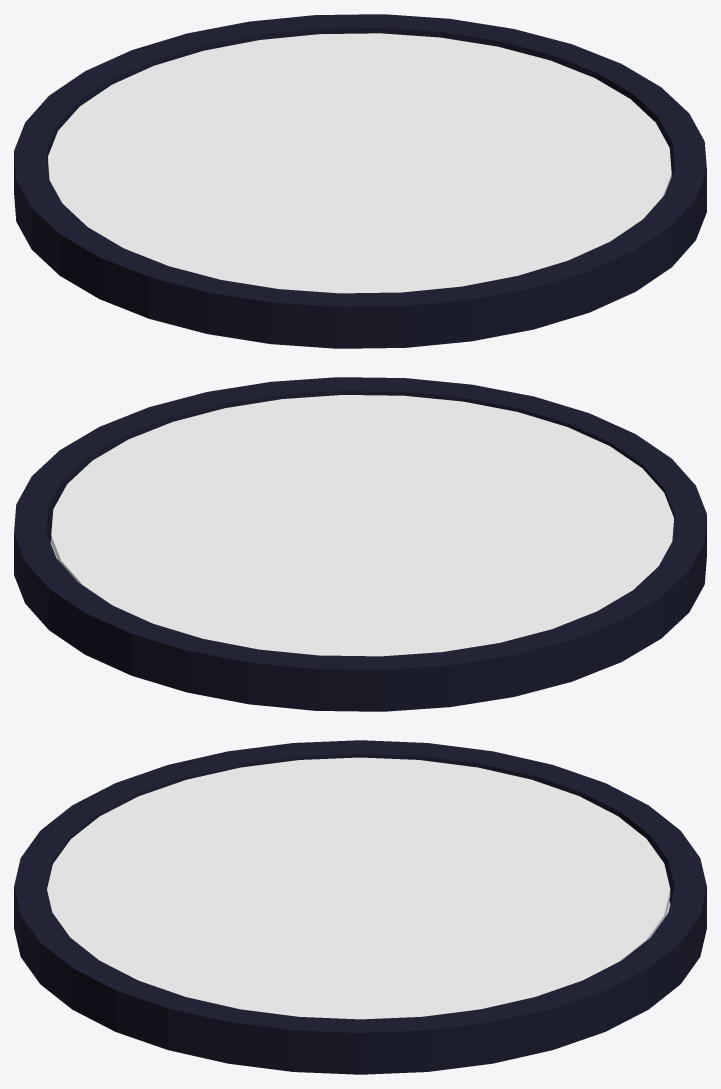
File: reloj.fbx
3 renders of one model, top to bottom at view 1: azimuth 30°, elevation 25°; view 2: azimuth 150°, elevation 25°; view 3: azimuth 270°, elevation 25°, orthographic.
Parts seen in each view (by area): view 1: Círculo; view 2: Círculo; view 3: Círculo.
Boxes of the visible parts, x1=… form: Círculo: x1=14, y1=14, x2=706, y2=348; Círculo: x1=14, y1=377, x2=706, y2=711; Círculo: x1=14, y1=740, x2=706, y2=1074.
Size of the model in its own units: 200 by 13.28 by 200.
